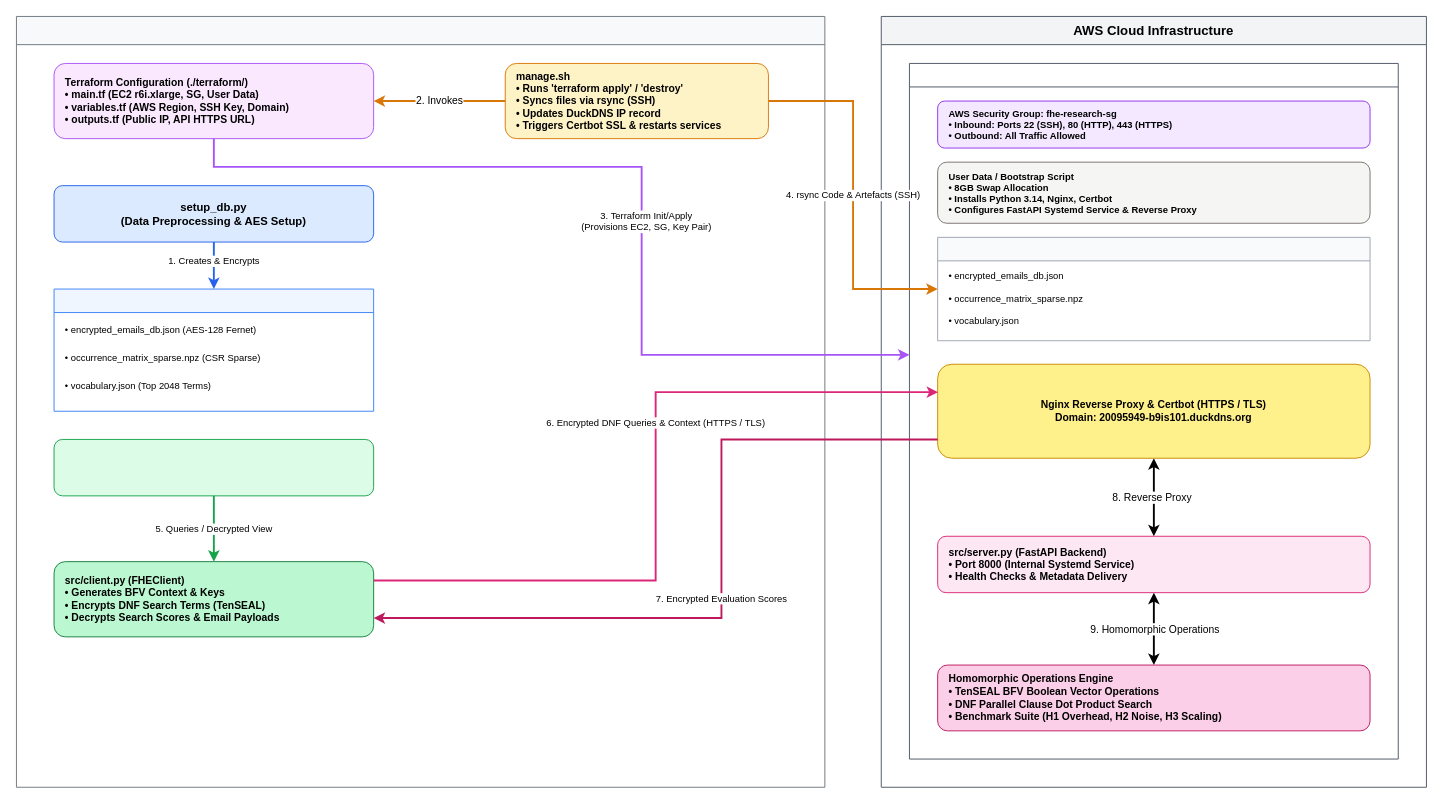
Some shapes in this 1443 by 804 pixel diagram are drawn without their labels. Each missing label, with the box of its shape:
app.py (Streamlit UI Application): (53, 439, 374, 496)
EC2 Instance: r6i.xlarge (Ubuntu 24.04 LTS): (909, 63, 1398, 759)
Generated Encrypted Artefacts (data/): (53, 288, 374, 411)
Local Machine (Client & Management Environment): (16, 16, 825, 787)
Remote Storage (/home/ubuntu/app/data/): (937, 236, 1370, 341)
